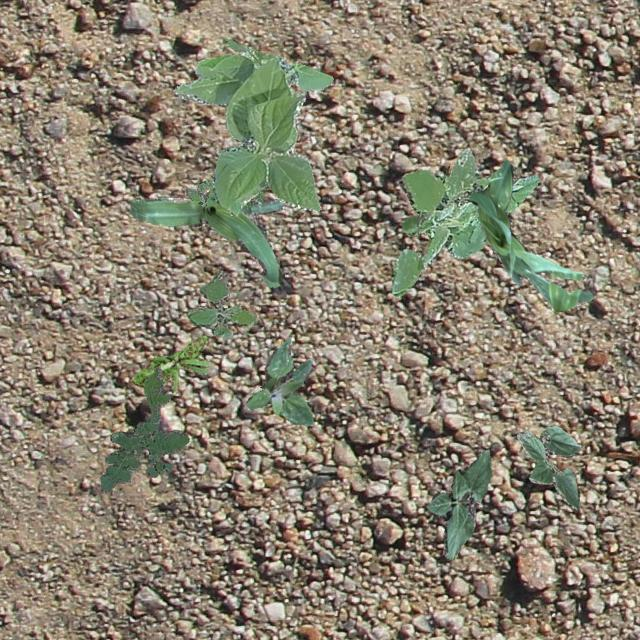crop: (172, 39, 332, 216), (468, 160, 594, 310), (130, 188, 284, 286), (426, 448, 490, 558), (516, 424, 580, 508)
weed: (389, 147, 538, 296), (100, 366, 188, 492), (245, 336, 312, 424), (186, 268, 256, 336), (132, 334, 208, 394), (184, 180, 268, 212)
